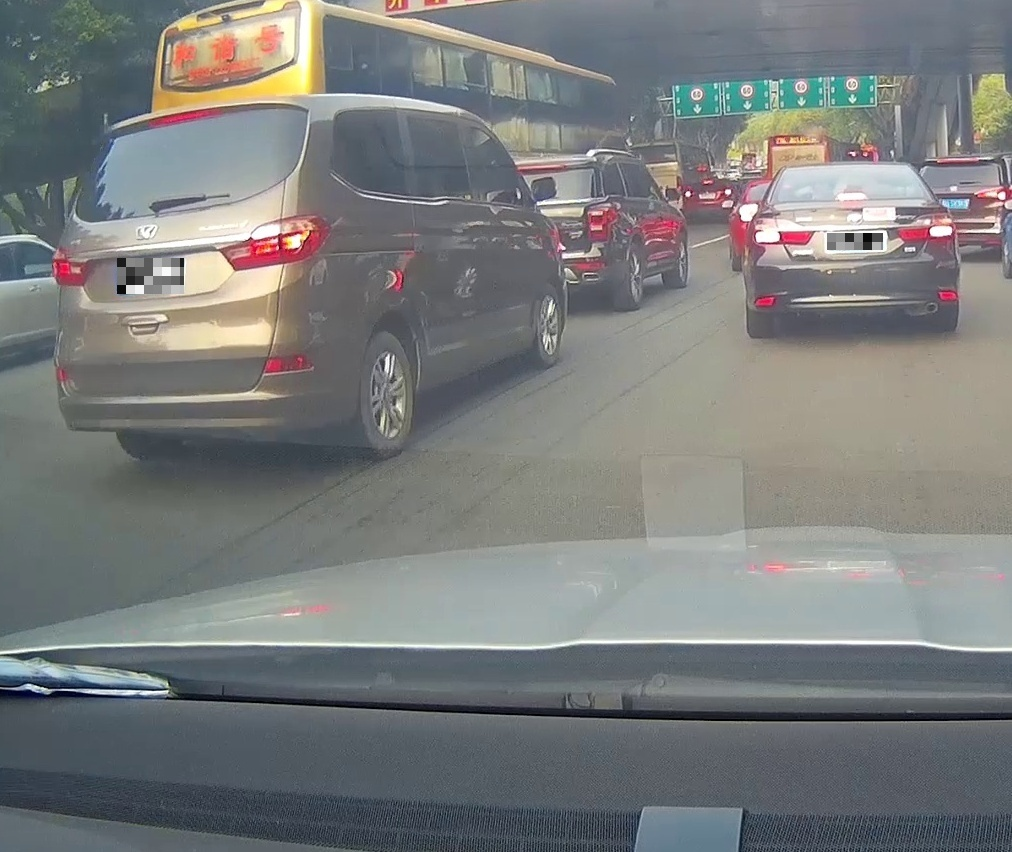L_light: (752, 219, 816, 246), (52, 248, 96, 285)
R_light: (217, 215, 331, 271), (896, 213, 956, 242)
T_light: (158, 108, 215, 125), (837, 192, 867, 201)
day-brake: (53, 93, 334, 460), (743, 162, 960, 339)
plate_1: (117, 258, 184, 294)
plate_2: (827, 233, 883, 250)
